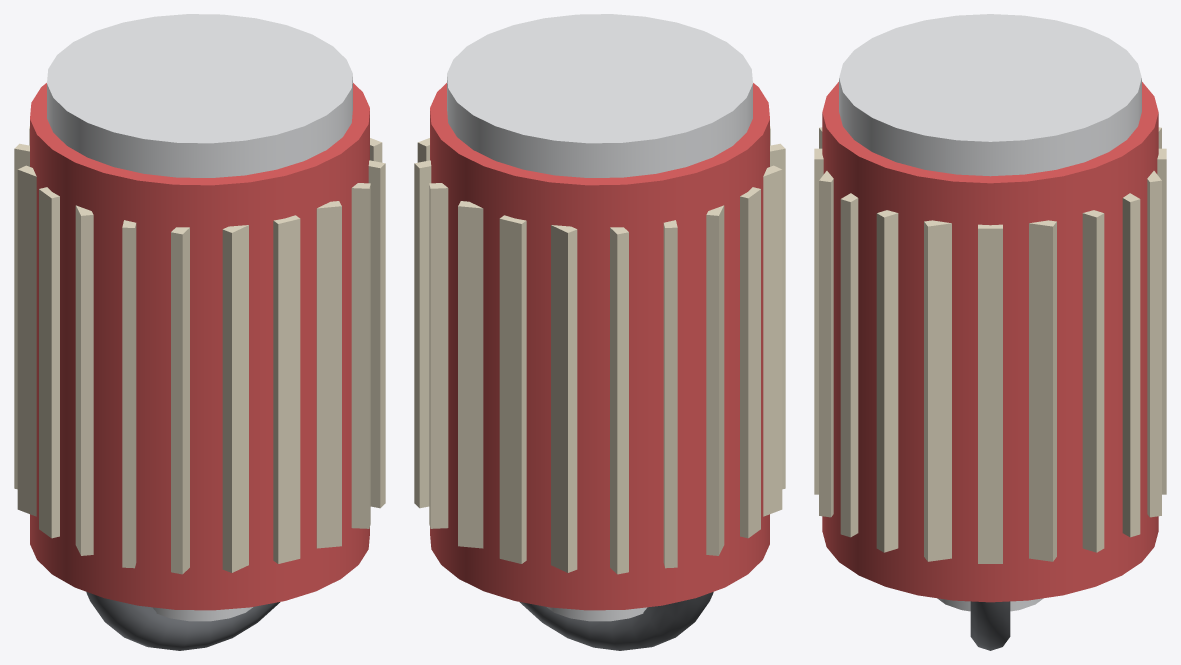
The model's file is oil.glb.
3 renders of one model, left to right at view 1: azimuth 30°, elevation 25°; view 2: azimuth 150°, elevation 25°; view 3: azimuth 270°, elevation 25°, orthographic.
Parts seen in each view (by area): view 1: body, topCap, pleat_5, pleat_6, pleat_4, pleat_10, pleat_11, pleat_3, pleat_9, pleat_7, pleat_2, pleat_8 (+3 smaller); view 2: body, topCap, pleat_15, pleat_14, pleat_16, pleat_10, pleat_9, pleat_17, pleat_11, pleat_13, pleat_18, pleat_12 (+3 smaller); view 3: body, topCap, pleat_1, pleat_19, pleat_0, pleat_2, pleat_18, pleat_3, pleat_17, pleat_4, pleat_16, pleat_5 (+2 smaller).
Part boxes in pixels (left/top/right/bottom): body: left=30, top=83, right=369, bottom=610; topCap: left=47, top=14, right=352, bottom=177; pleat_5: left=273, top=215, right=300, bottom=563; pleat_6: left=222, top=225, right=248, bottom=572; pleat_4: left=316, top=201, right=341, bottom=548; pleat_10: left=39, top=187, right=59, bottom=538; pleat_11: left=17, top=165, right=36, bottom=516; pleat_3: left=351, top=183, right=370, bottom=528; pleat_9: left=75, top=205, right=93, bottom=555; pleat_7: left=171, top=227, right=189, bottom=574; pleat_2: left=368, top=160, right=385, bottom=508; pleat_8: left=122, top=220, right=136, bottom=568; body: left=430, top=83, right=769, bottom=610; topCap: left=447, top=14, right=752, bottom=177; pleat_15: left=499, top=215, right=526, bottom=563; pleat_14: left=551, top=225, right=577, bottom=572; pleat_16: left=458, top=201, right=483, bottom=548; pleat_10: left=740, top=187, right=760, bottom=538; pleat_9: left=763, top=165, right=782, bottom=516; pleat_17: left=429, top=183, right=448, bottom=528; pleat_11: left=706, top=205, right=724, bottom=555; pleat_13: left=610, top=227, right=628, bottom=574; pleat_18: left=414, top=160, right=431, bottom=508; pleat_12: left=663, top=220, right=677, bottom=568; body: left=822, top=82, right=1158, bottom=602; topCap: left=839, top=14, right=1141, bottom=176; pleat_1: left=924, top=220, right=951, bottom=561; pleat_19: left=1029, top=220, right=1056, bottom=561; pleat_0: left=978, top=224, right=1002, bottom=563; pleat_2: left=876, top=210, right=898, bottom=552; pleat_18: left=1082, top=210, right=1104, bottom=552; pleat_3: left=840, top=193, right=858, bottom=537; pleat_17: left=1122, top=193, right=1140, bottom=537; pleat_4: left=819, top=171, right=833, bottom=517; pleat_16: left=1147, top=171, right=1161, bottom=517; pleat_5: left=814, top=148, right=823, bottom=494.
Bounding box in the file's own units: 0.838 × 1.47 × 0.838.
